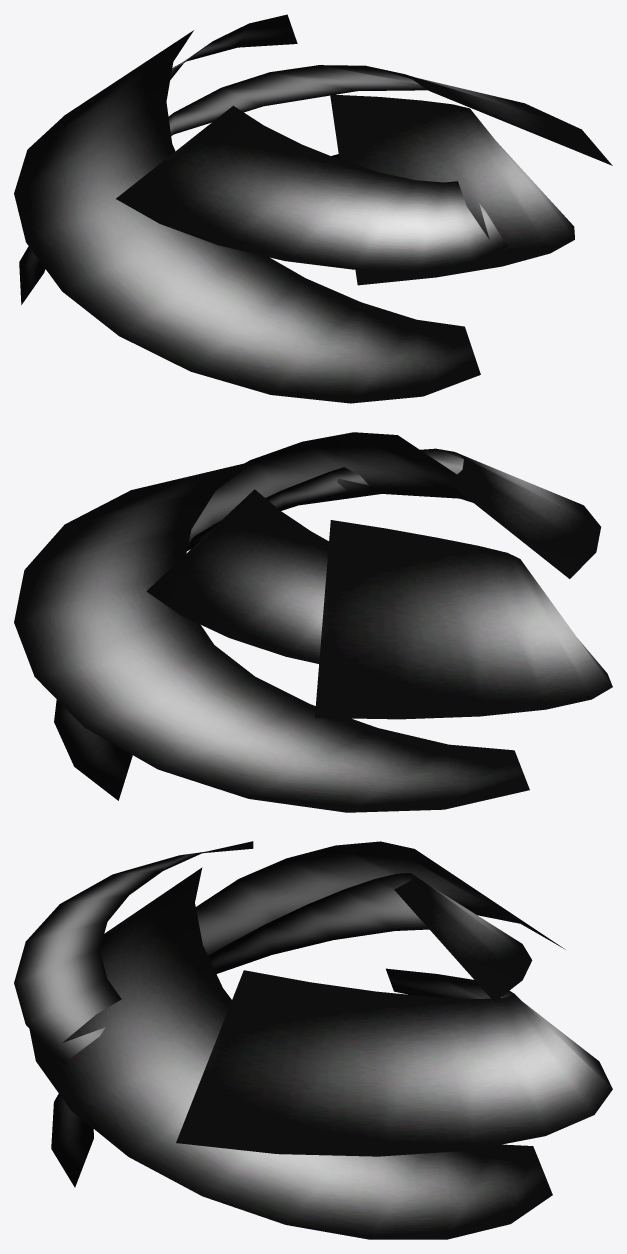
File: vfx_kurp_0438.dae
3 renders of one model, top to bottom at view 1: azimuth 30°, elevation 25°; view 2: azimuth 150°, elevation 25°; view 3: azimuth 270°, elevation 25°, orthographic. The views are drawn at different scales.
Visible parts, largest first — view 1: vfx_kurp_0438; view 2: vfx_kurp_0438; view 3: vfx_kurp_0438.
Boxes of the visible parts, x1,y1,x2,y2 form: vfx_kurp_0438: [14, 14, 612, 403]; vfx_kurp_0438: [14, 432, 612, 812]; vfx_kurp_0438: [14, 841, 612, 1239].
Size of the model in its own units: 6.68 by 6.36 by 3.23.
Materials: 1 (1 with a texture image).
